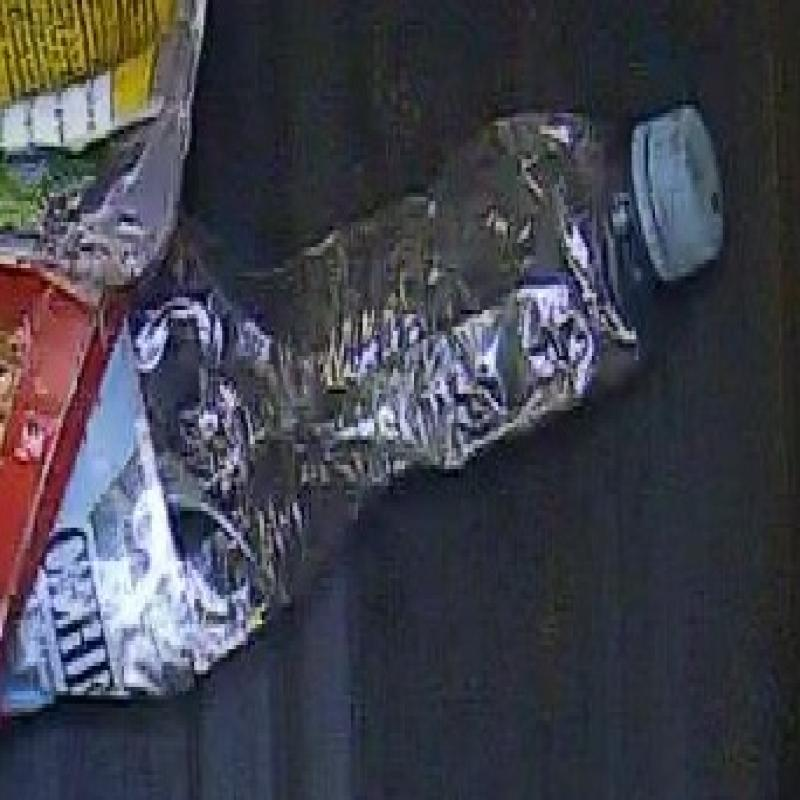botella: (16, 99, 730, 716)
